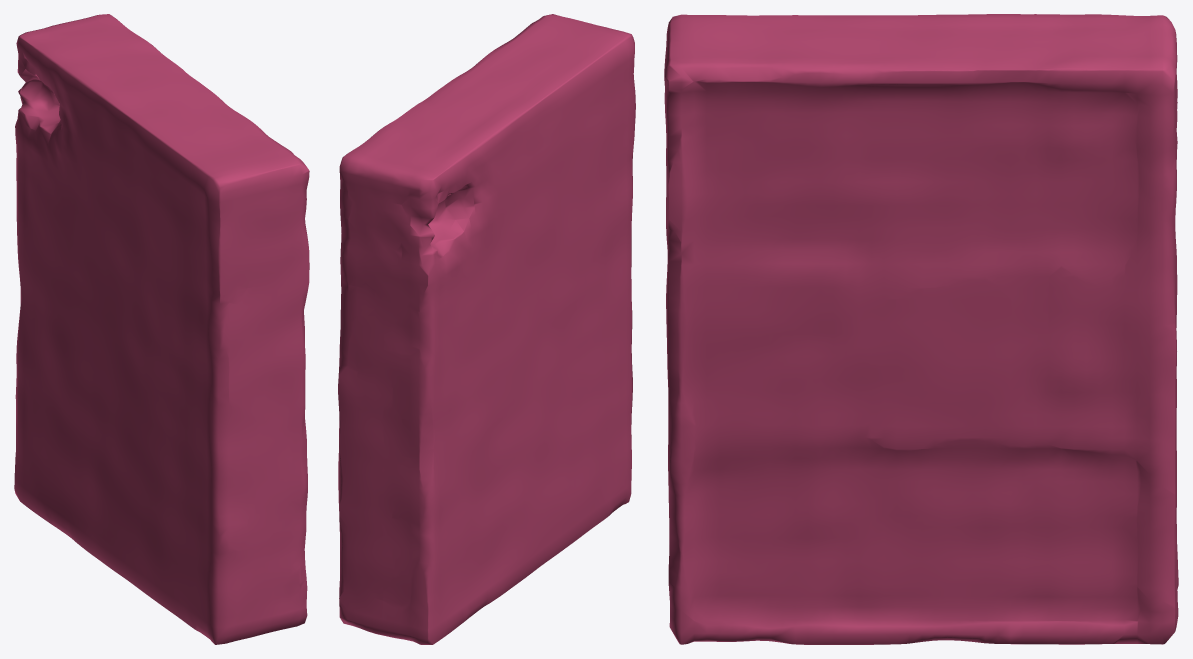
File: wardrobe_13_7.obj
3 views of the same model, side by side, from view 1: azimuth 30°, elevation 25°; view 2: azimuth 150°, elevation 25°; view 3: azimuth 270°, elevation 25° (orthographic). The views are drawn at different scales.
Size of the model in its own units: 0.1781 by 0.7913 by 0.6351.
